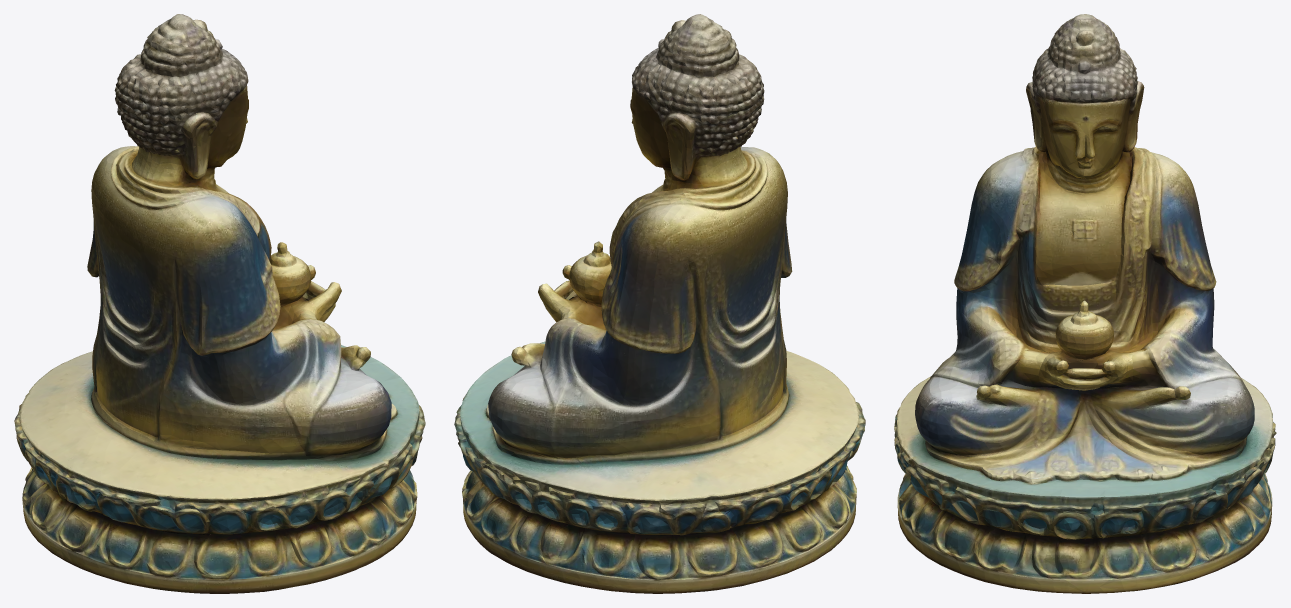
File: west.glb
The picture shows the model from 3 angles, left to right: view 1: azimuth 30°, elevation 25°; view 2: azimuth 150°, elevation 25°; view 3: azimuth 270°, elevation 25°; orthographic projection. The views are drawn at different scales.
Parts seen in each view (by area): view 1: geometry_0; view 2: geometry_0; view 3: geometry_0.
Boxes of the visible parts, <box> form: geometry_0: <box>14,14,425,593</box>; geometry_0: <box>454,14,865,593</box>; geometry_0: <box>894,14,1276,593</box>.
Bounding box in the file's own units: 0.7193 × 1 × 0.7195.
Materials: 1 (1 with a texture image).
